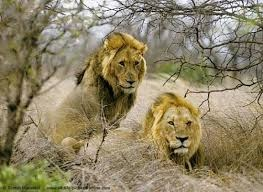lion: (22, 27, 150, 177), (139, 87, 207, 177)
